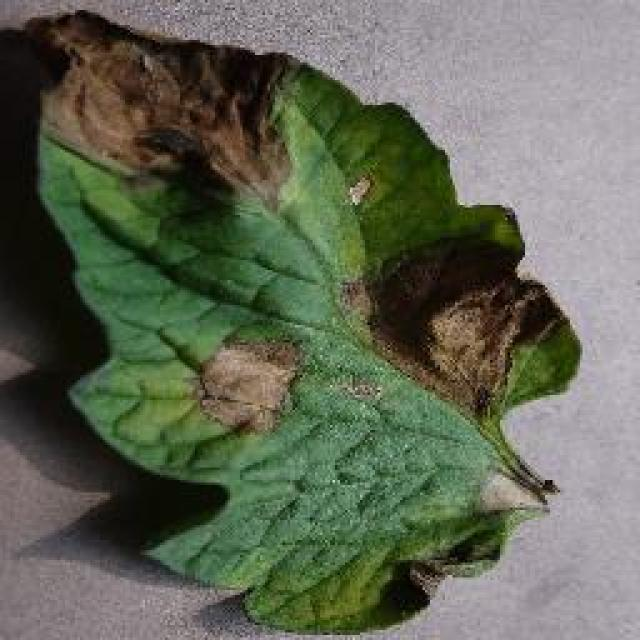Tomato Late Blight: (17, 0, 600, 425)
